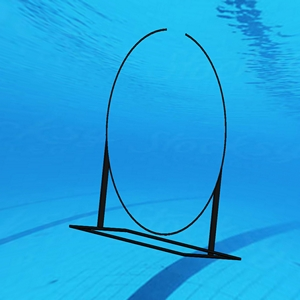circle: (68, 26, 244, 264)
